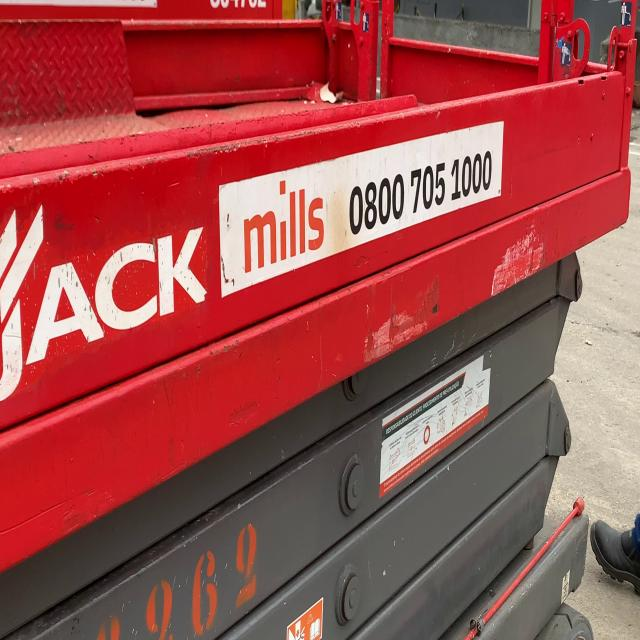Adesivo Longo: (215, 117, 505, 307)
